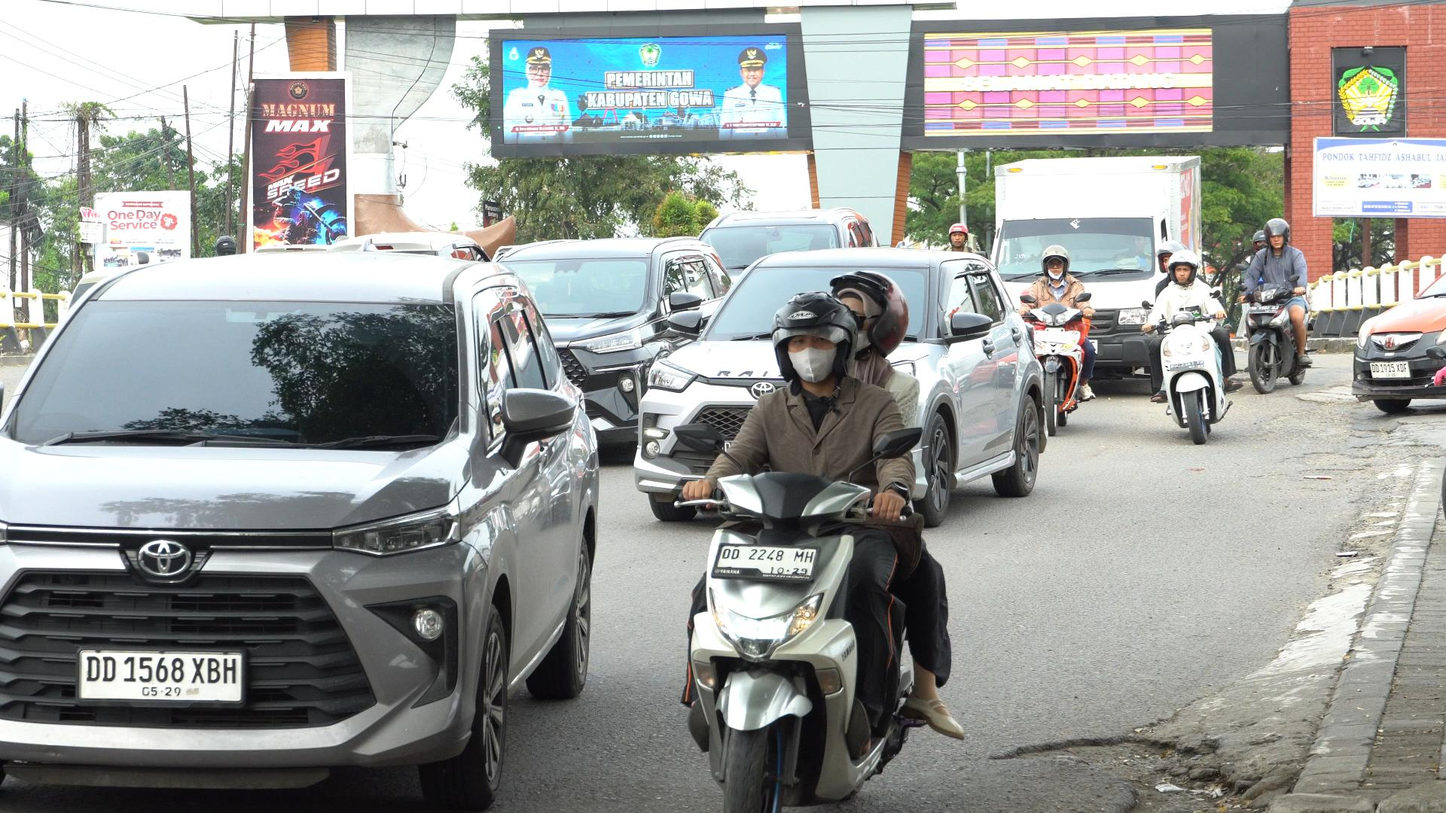number-plate: (711, 538, 823, 586)
